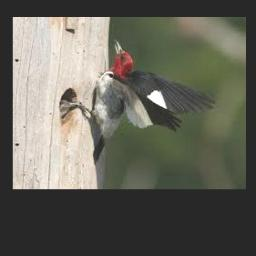Woodpecker: (61, 40, 214, 164)
